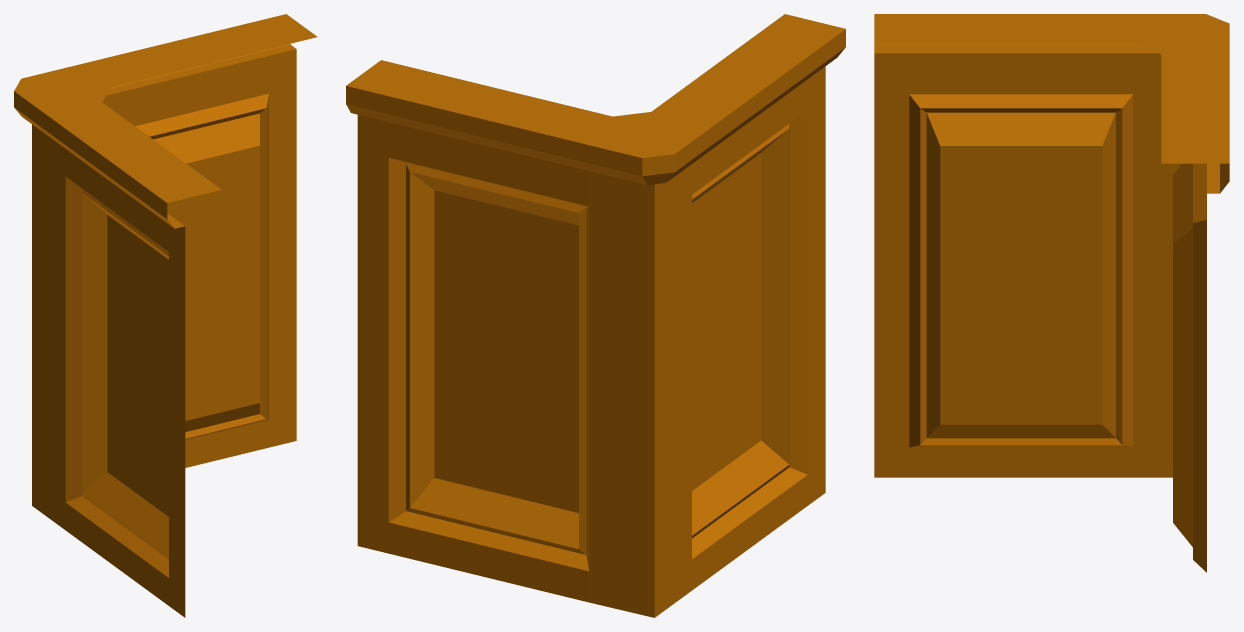
Rendered from wallpiece corner out.glb.
3 views of the same model, side by side, from view 1: azimuth 30°, elevation 25°; view 2: azimuth 150°, elevation 25°; view 3: azimuth 270°, elevation 25° (orthographic). The views are drawn at different scales.
Parts seen in each view (by area): view 1: Wall Corner Out; view 2: Wall Corner Out; view 3: Wall Corner Out.
Boxes of the visible parts, box(x1,y1,x2,y2) form: Wall Corner Out: box(14, 14, 317, 617); Wall Corner Out: box(346, 14, 845, 617); Wall Corner Out: box(874, 14, 1229, 572).
Bounding box in the file's own units: 2.14 × 3.02 × 2.14.
